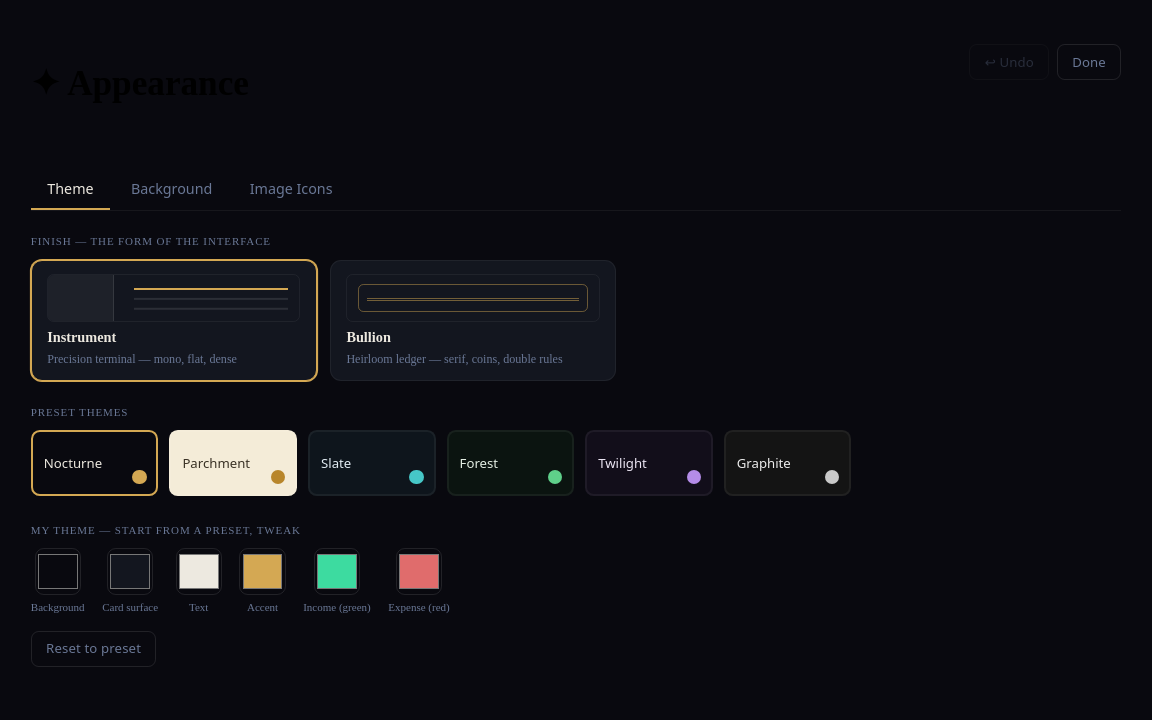
Test case: AppearanceScreen › switching to Background shows the effect controls
Click the tab "Background" at coordinates (172, 190), box [114,170,229,210]
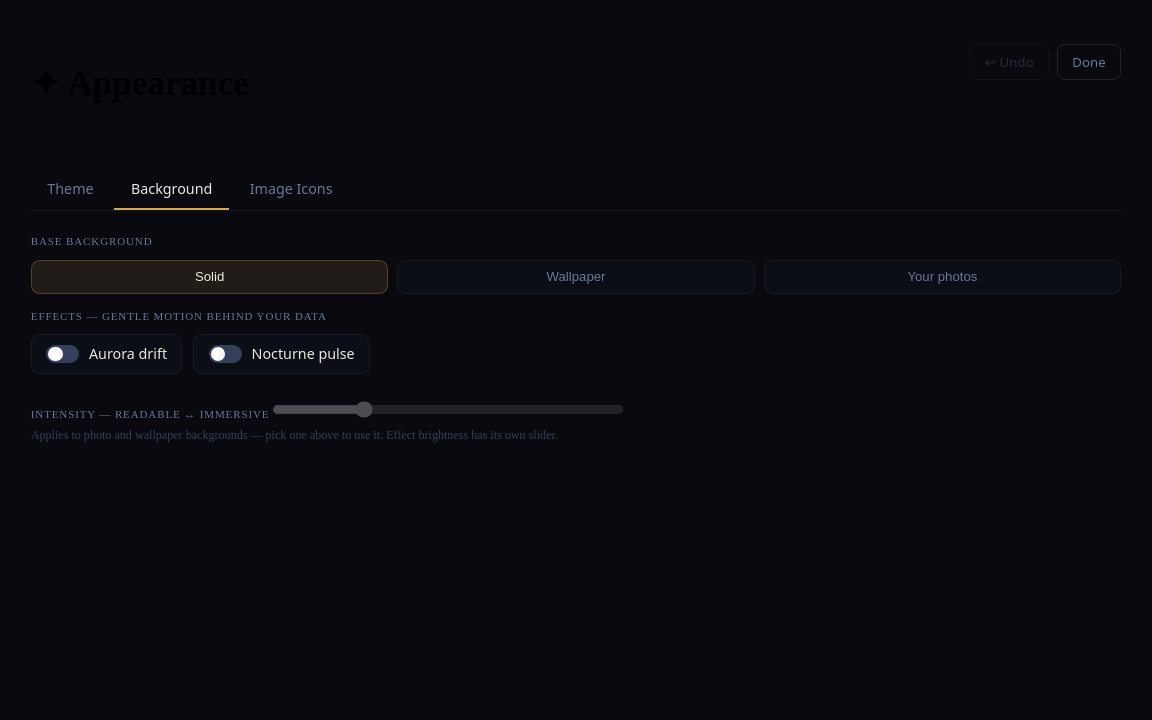
Expected: the switch labelled "Aurora drift" is shown, [31,334,182,374]
